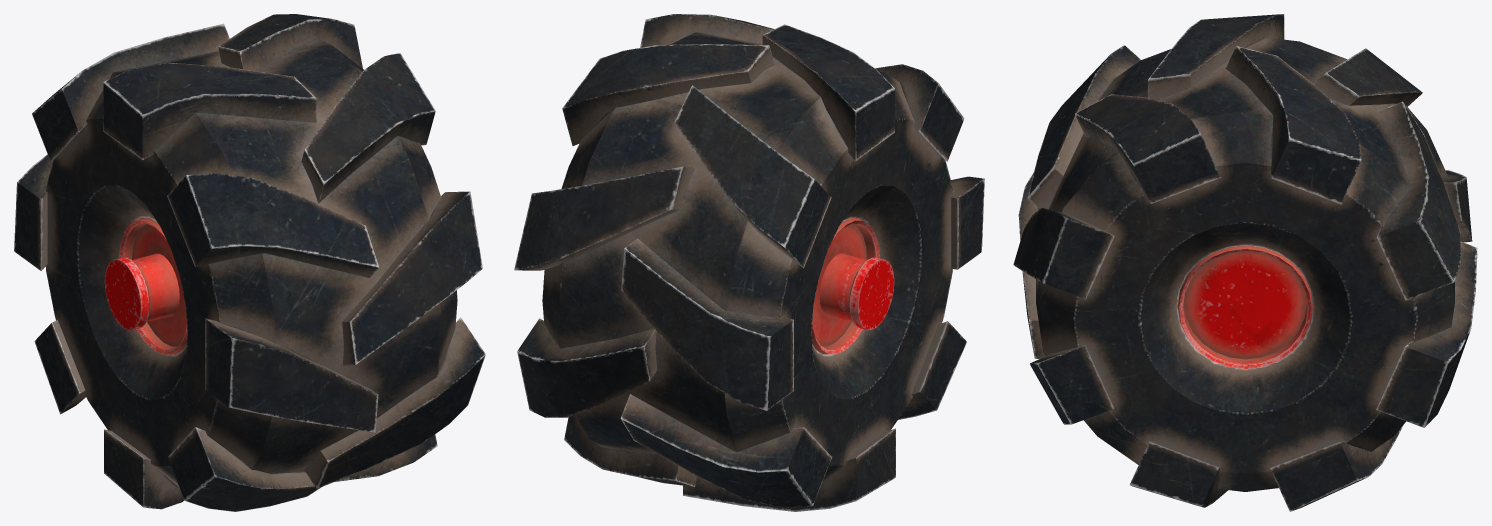
File: RedBuggy_WheelRR.fbx
3 renders of one model, left to right at view 1: azimuth 30°, elevation 25°; view 2: azimuth 150°, elevation 25°; view 3: azimuth 270°, elevation 25°, orthographic. The views are drawn at different scales.
Parts seen in each view (by area): view 1: RedBuggy_WheelRR; view 2: RedBuggy_WheelRR; view 3: RedBuggy_WheelRR.
Boxes of the visible parts, x1,y1,x2,y2 form: RedBuggy_WheelRR: (14, 14, 485, 511); RedBuggy_WheelRR: (514, 14, 984, 511); RedBuggy_WheelRR: (1013, 14, 1477, 511).
Bounding box in the file's own units: 79.81 × 131 × 131.
1 material, 1 textured.
